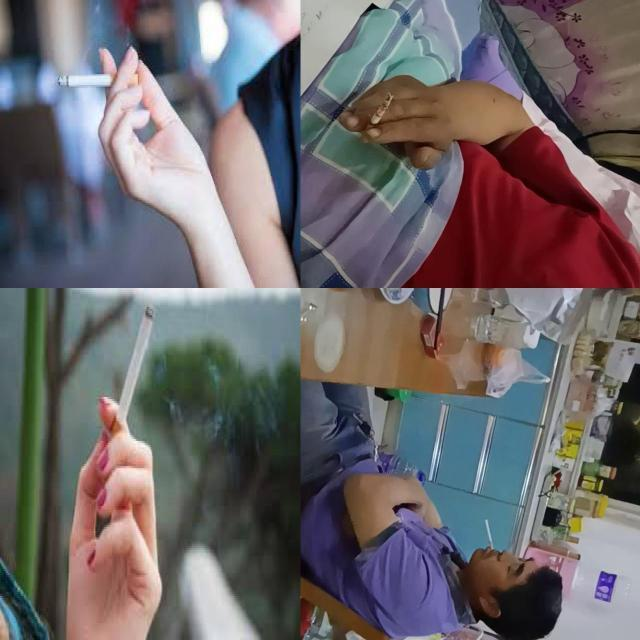smoking: (107, 304, 154, 454), (361, 92, 395, 144), (58, 74, 138, 87), (485, 520, 493, 550)
